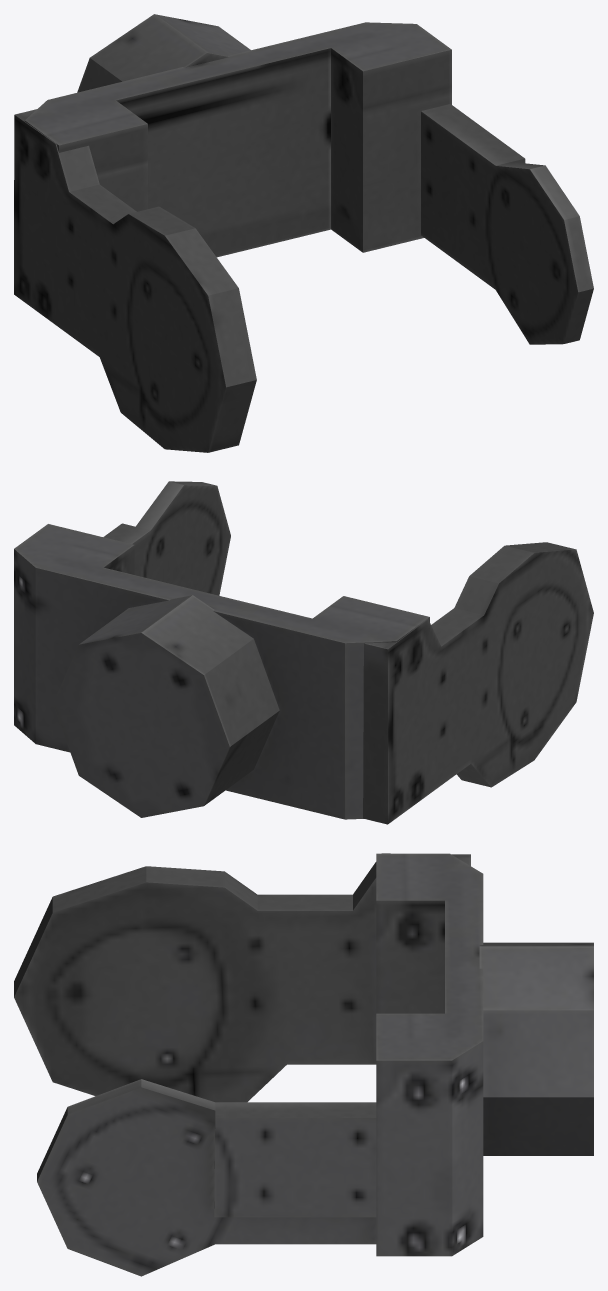
Rendered from l_hand.DAE.
3 renders of one model, top to bottom at view 1: azimuth 30°, elevation 25°; view 2: azimuth 150°, elevation 25°; view 3: azimuth 270°, elevation 25°, orthographic. The views are drawn at different scales.
Visible parts, largest first — view 1: drc_l_hand; view 2: drc_l_hand; view 3: drc_l_hand.
Part boxes in pixels (<box>): drc_l_hand: <box>14,14,593,452</box>; drc_l_hand: <box>14,481,593,824</box>; drc_l_hand: <box>14,853,593,1276</box>.
Bounding box in the file's own units: 0.1348 × 0.1595 × 0.077.
